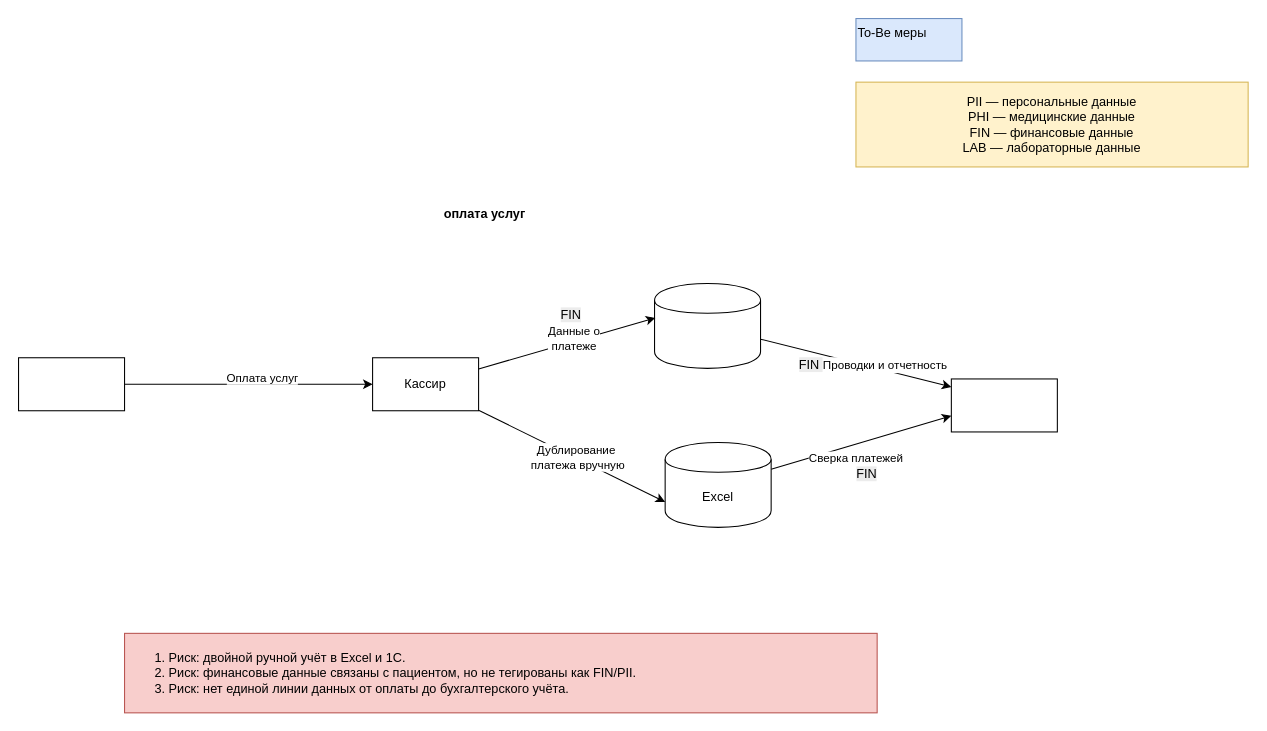
This 1267x731 diagram has some shape labels left out. Here are the shapes that lost their labels. From the top down, the centre of each, then its label:
point 707,325: 1С Бухгалтерия
point 71,384: Пациент
point 1003,405: Бухгалтер
